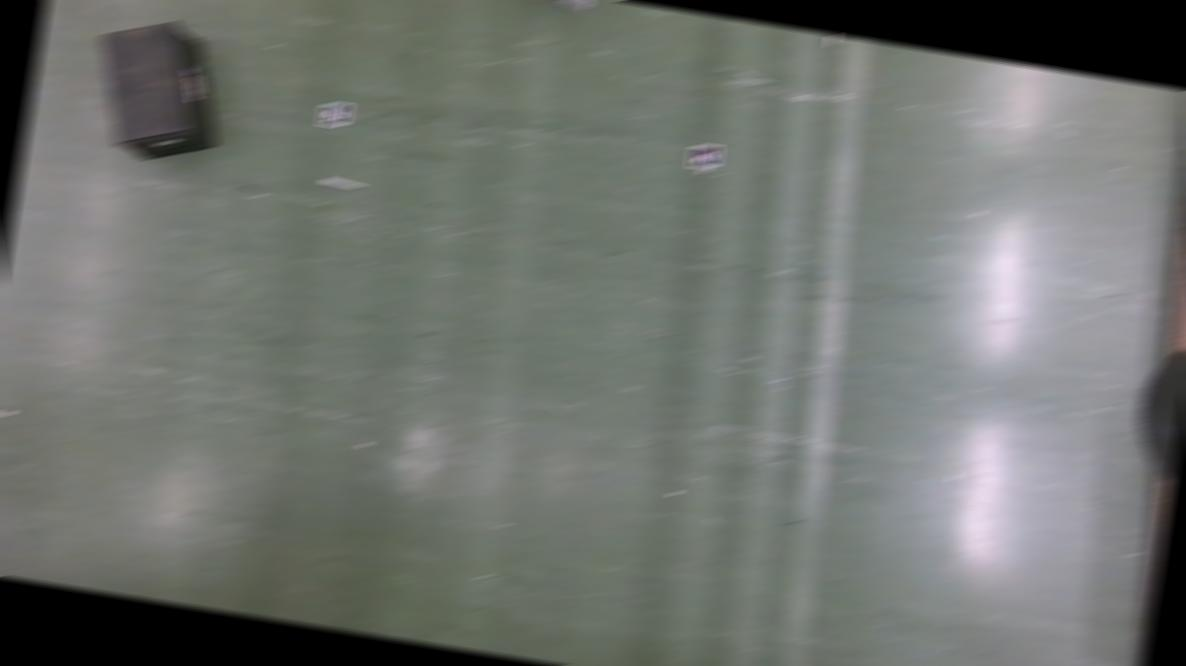probes: (321, 177, 363, 190), (822, 33, 848, 46)
rako: (81, 14, 234, 170), (503, 0, 604, 8)
